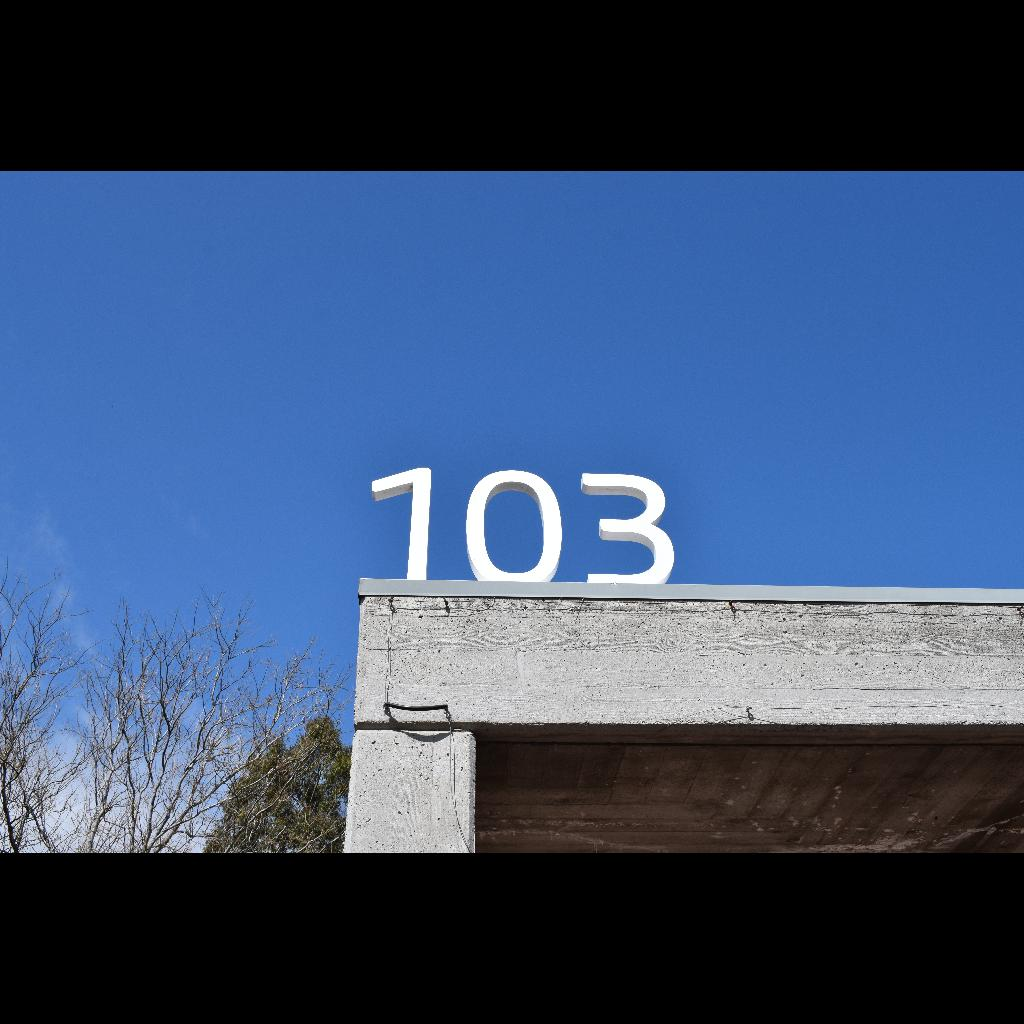BuildingCodes: (368, 464, 680, 586)
